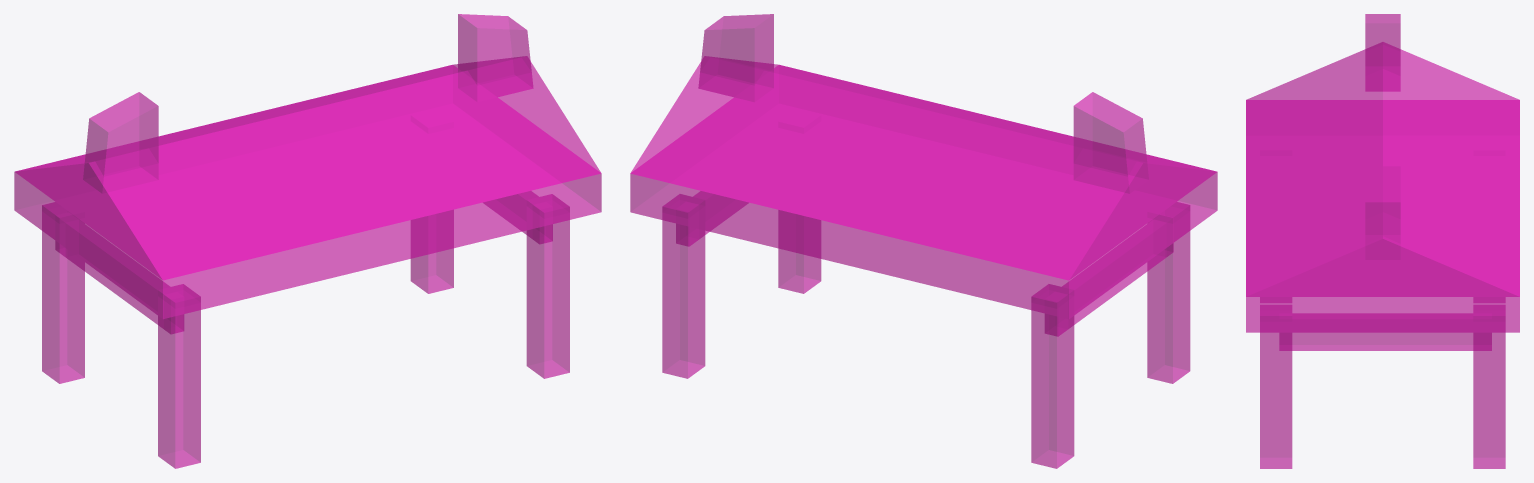
File: SM_Prop_Shelter_01_Collision.fbx
3 views of the same model, side by side, from view 1: azimuth 30°, elevation 25°; view 2: azimuth 150°, elevation 25°; view 3: azimuth 270°, elevation 25° (orthographic). The views are drawn at different scales.
Visible parts, largest first — view 1: SM_Prop_Shelter_01_Collision; view 2: SM_Prop_Shelter_01_Collision; view 3: SM_Prop_Shelter_01_Collision.
Part boxes in pixels (left/top/right/bottom): SM_Prop_Shelter_01_Collision: left=14, top=14, right=601, bottom=468; SM_Prop_Shelter_01_Collision: left=630, top=14, right=1217, bottom=468; SM_Prop_Shelter_01_Collision: left=1246, top=14, right=1519, bottom=468.
Size of the model in its own units: 680 by 461 by 399.
